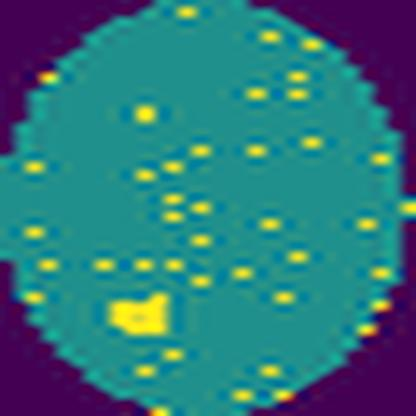Loc: (111, 292, 168, 334)
